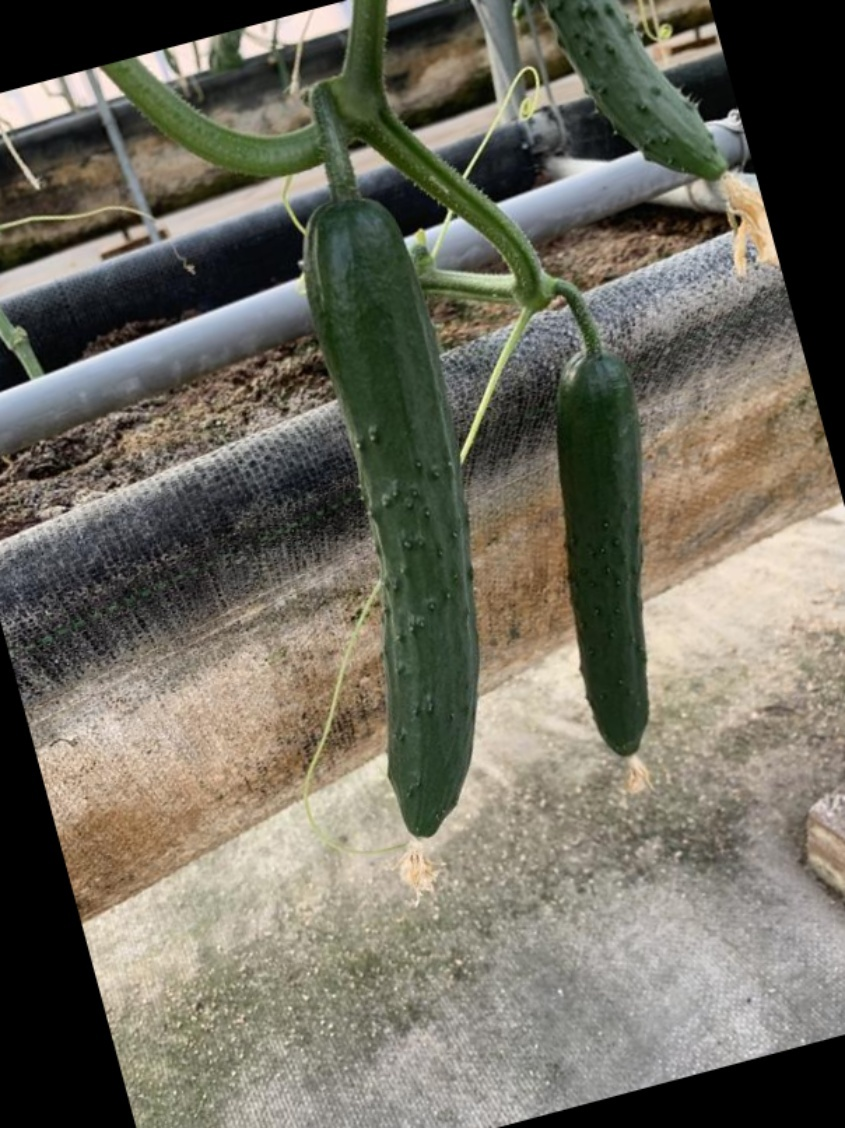mature: (546, 341, 657, 769)
